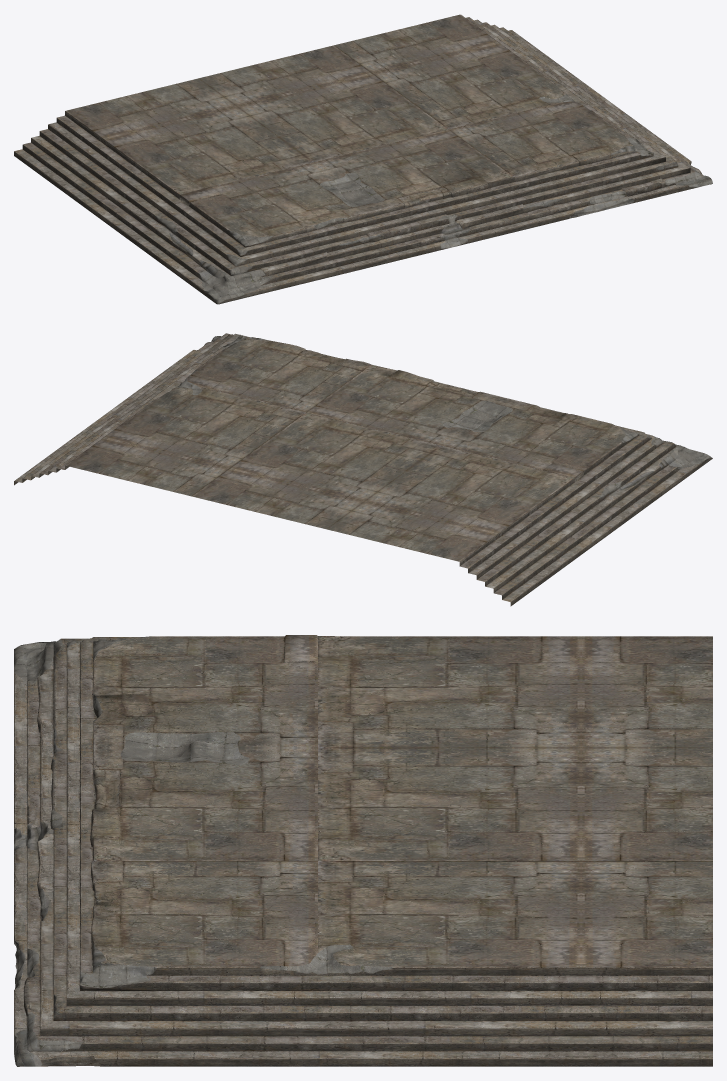
The model's file is Stairs0.fbx.
The picture shows the model from 3 angles, top to bottom: view 1: azimuth 30°, elevation 25°; view 2: azimuth 150°, elevation 25°; view 3: azimuth 270°, elevation 25°; orthographic projection. The views are drawn at different scales.
Parts seen in each view (by area): view 1: LV_Campagna_Stadium_Layer01_SM_HSH.001; view 2: LV_Campagna_Stadium_Layer01_SM_HSH.001; view 3: LV_Campagna_Stadium_Layer01_SM_HSH.001.
Part boxes in pixels (left/top/right/bottom): LV_Campagna_Stadium_Layer01_SM_HSH.001: left=14, top=14, right=712, bottom=304; LV_Campagna_Stadium_Layer01_SM_HSH.001: left=14, top=333, right=712, bottom=606; LV_Campagna_Stadium_Layer01_SM_HSH.001: left=14, top=635, right=712, bottom=1066.
Bounding box in the file's own units: 9.4 × 0.6341 × 6.65.
